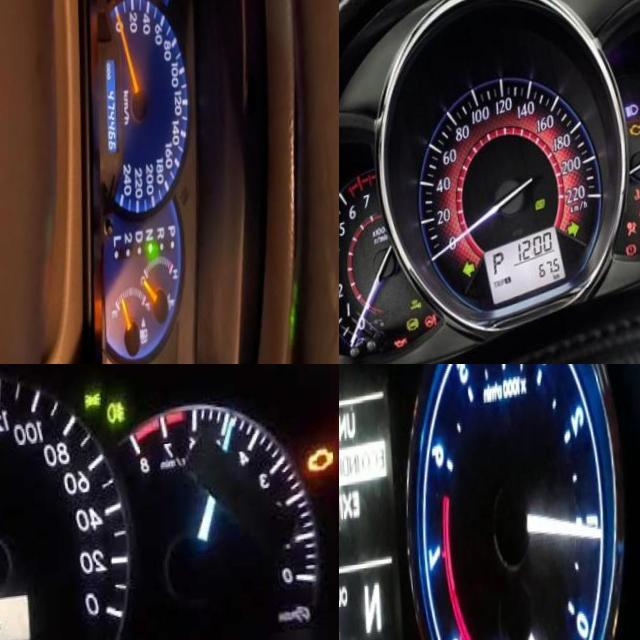Electronic Power Steering: (420, 320, 433, 334)
High Engine Coolant Temperature: (629, 198, 640, 211)
